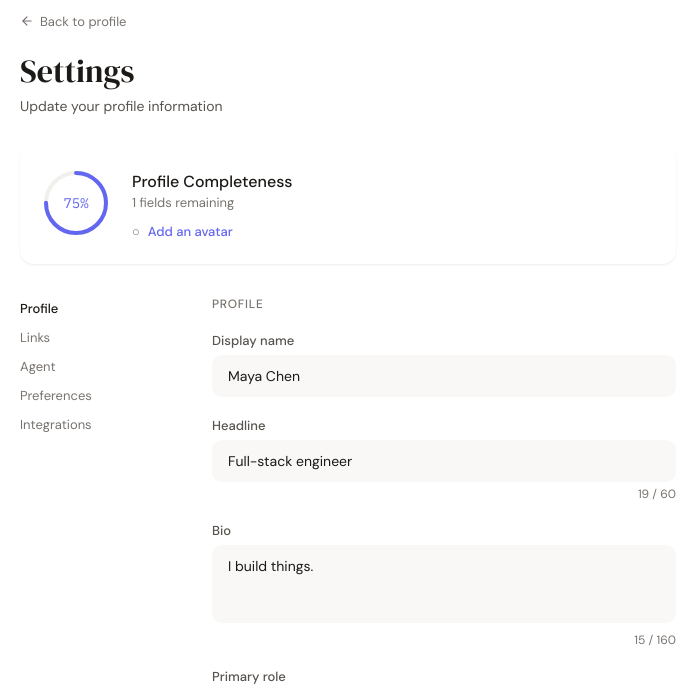
Test case: SettingsPage › Links section › adds a new empty row with "Add link" button
Click the button "Links": (100,337) [20, 325, 180, 350]
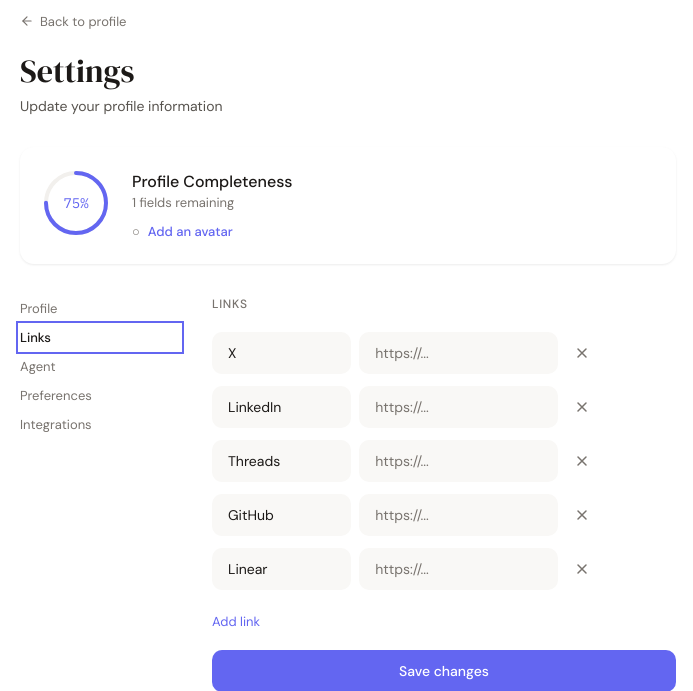
Now the number of fields named "Link 1 label" is 5, box [212, 332, 351, 374]; [212, 386, 351, 428]; [212, 440, 351, 482]; [212, 494, 351, 536]; [212, 548, 351, 590]
Click the button "Add link": (236,621) [212, 613, 260, 630]
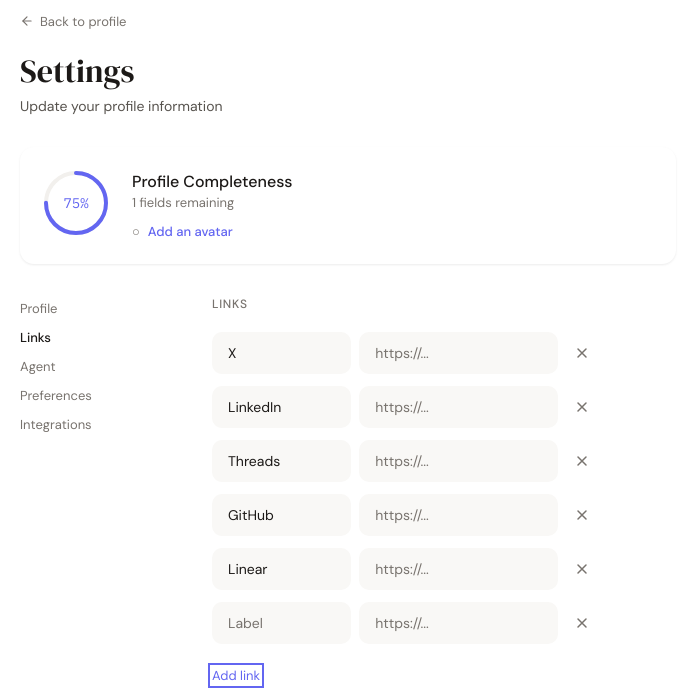
Now the number of fields named "Link 1 label" is 6, box [212, 332, 351, 374]; [212, 386, 351, 428]; [212, 440, 351, 482]; [212, 494, 351, 536]; [212, 548, 351, 590]; [212, 602, 351, 644]
Now the field named "Link 6 label" is empty, box [212, 602, 351, 644]
Now the field named "Link 6 URL" is empty, box [359, 602, 558, 644]
